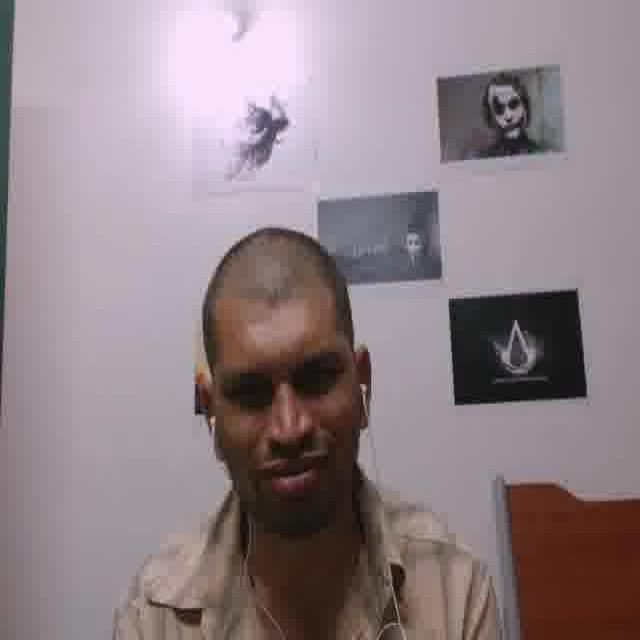Confusion: (207, 288, 353, 525)
